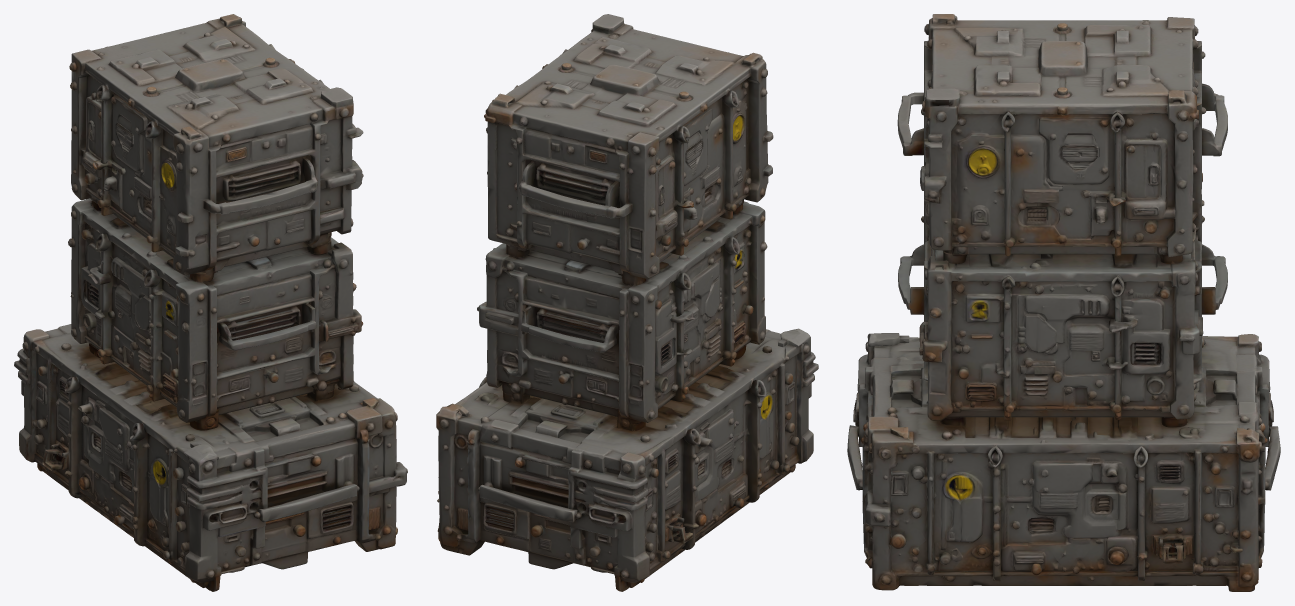
Rendered from mars_containers.glb.
3 renders of one model, left to right at view 1: azimuth 30°, elevation 25°; view 2: azimuth 150°, elevation 25°; view 3: azimuth 270°, elevation 25°, orthographic. The views are drawn at different scales.
Parts seen in each view (by area): view 1: tripo_node_7b356459-28f7-46b8-b311-781d9ee76215; view 2: tripo_node_7b356459-28f7-46b8-b311-781d9ee76215; view 3: tripo_node_7b356459-28f7-46b8-b311-781d9ee76215.
Boxes of the visible parts, x1,y1,x2,y2 form: tripo_node_7b356459-28f7-46b8-b311-781d9ee76215: [14, 14, 407, 591]; tripo_node_7b356459-28f7-46b8-b311-781d9ee76215: [436, 14, 818, 591]; tripo_node_7b356459-28f7-46b8-b311-781d9ee76215: [847, 14, 1280, 591].
Size of the model in its own units: 0.5362 by 0.9812 by 0.7917.
Materials: 1 (1 with a texture image).
